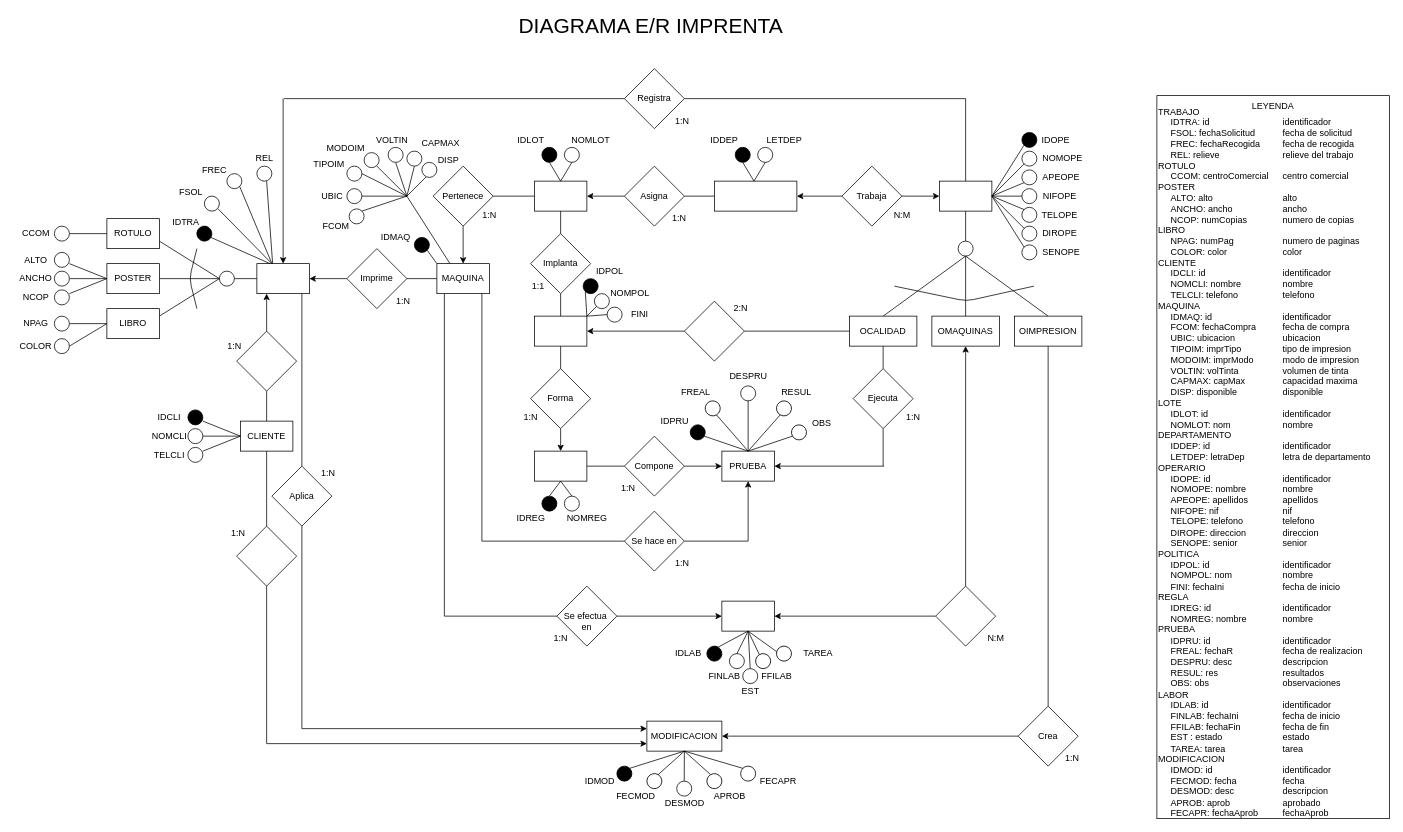
This 1403x832 diagram has some shape labels left out. Here are the shapes that lost their labels. From the top down, the box of each, then its label:
(534, 180, 587, 211): LOTE
(714, 180, 797, 211): DEPARTAMENTO
(939, 180, 992, 211): OPERARIO
(256, 263, 309, 294): TRABAJO
(534, 315, 587, 346): POLITICA
(684, 300, 744, 361): Diseña
(236, 330, 297, 391): Solicita
(534, 450, 587, 481): REGLA
(236, 525, 297, 586): Aprueba
(721, 600, 774, 631): LABOR
(935, 585, 996, 646): Realiza
